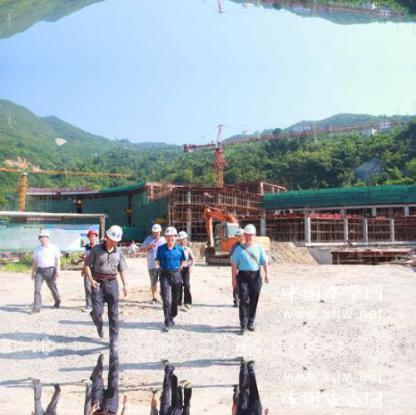helmet: (107, 222, 123, 244), (243, 223, 255, 237), (37, 226, 52, 237), (163, 226, 177, 236), (177, 231, 191, 241), (84, 228, 100, 236), (151, 224, 162, 234), (236, 229, 244, 239)
